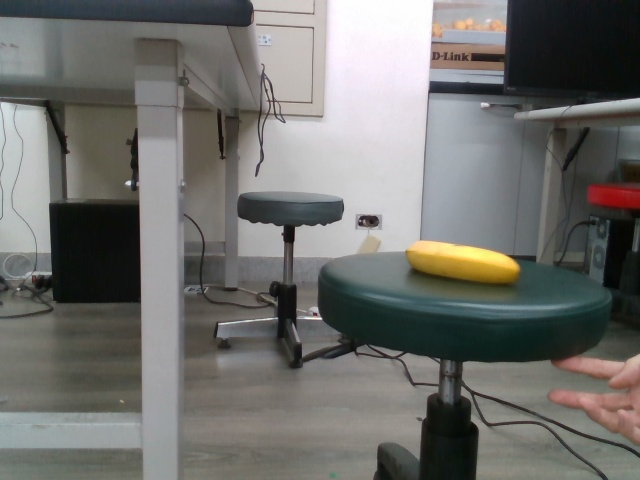banana: (401, 238, 523, 289)
